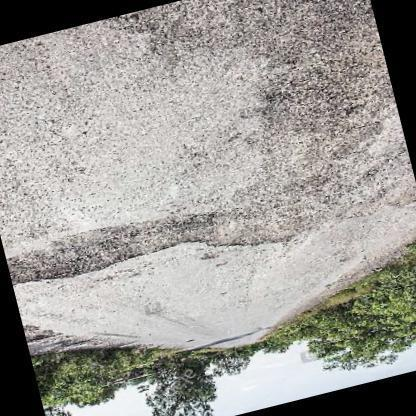pothole: (0, 205, 295, 292), (239, 0, 392, 139)
